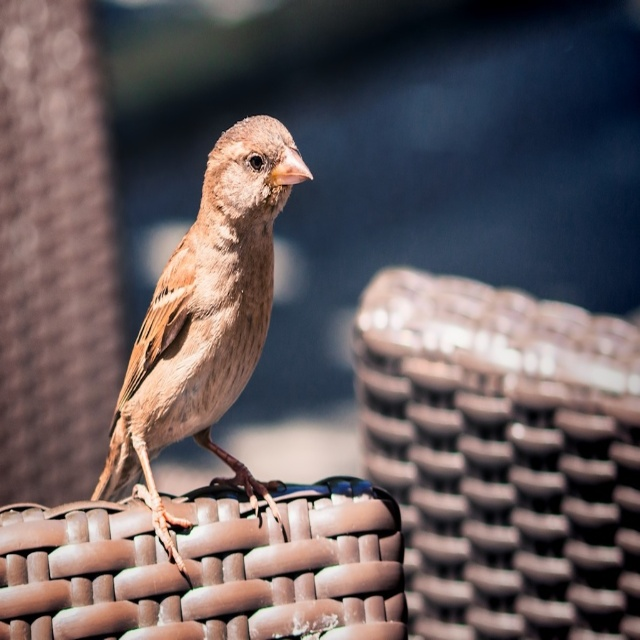Sparrow: (90, 115, 314, 571)
